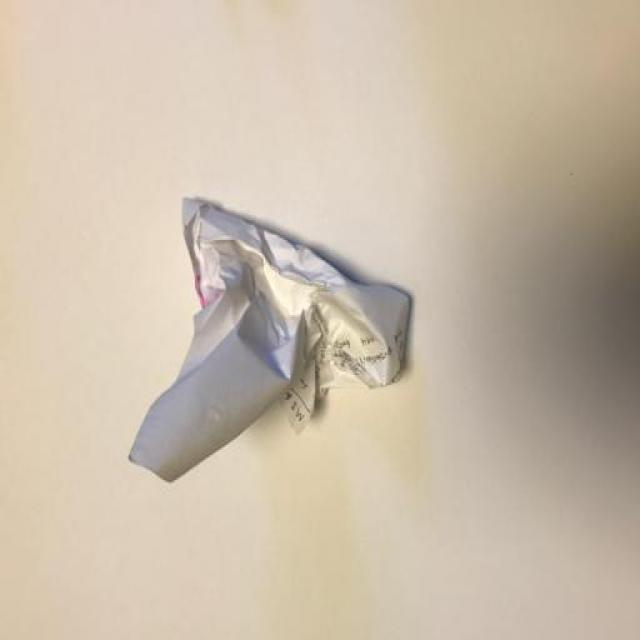paper: (111, 178, 435, 490)
